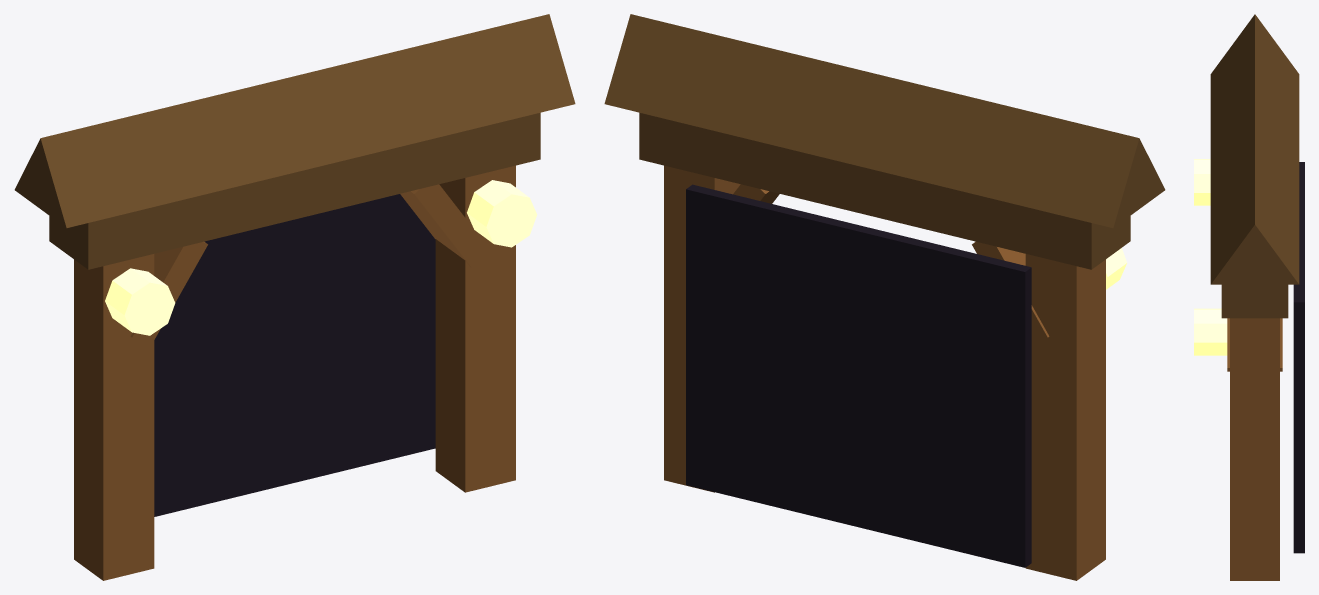
Rendered from mine_entrance.glb.
3 views of the same model, side by side, from view 1: azimuth 30°, elevation 25°; view 2: azimuth 150°, elevation 25°; view 3: azimuth 270°, elevation 25° (orthographic). The views are drawn at different scales.
Parts seen in each view (by area): view 1: mine_entrance; view 2: mine_entrance; view 3: mine_entrance.
Part boxes in pixels (x1,y1,x2,y2): mine_entrance: [14, 14, 575, 580]; mine_entrance: [604, 14, 1165, 580]; mine_entrance: [1194, 14, 1304, 580].
Size of the model in its own units: 0.9 by 0.75 by 0.2.
